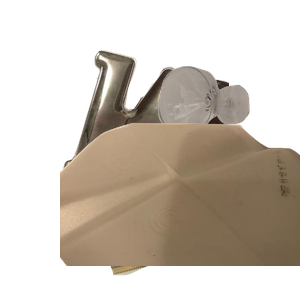glass: (156, 64, 300, 194)
metal: (60, 47, 300, 227)
plastic: (60, 120, 300, 300)
trash: (81, 137, 280, 300)
